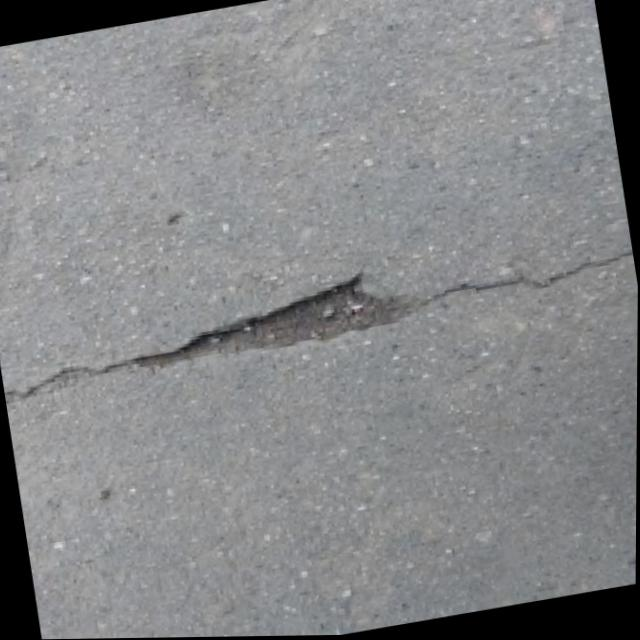Crack: (0, 223, 639, 415)
